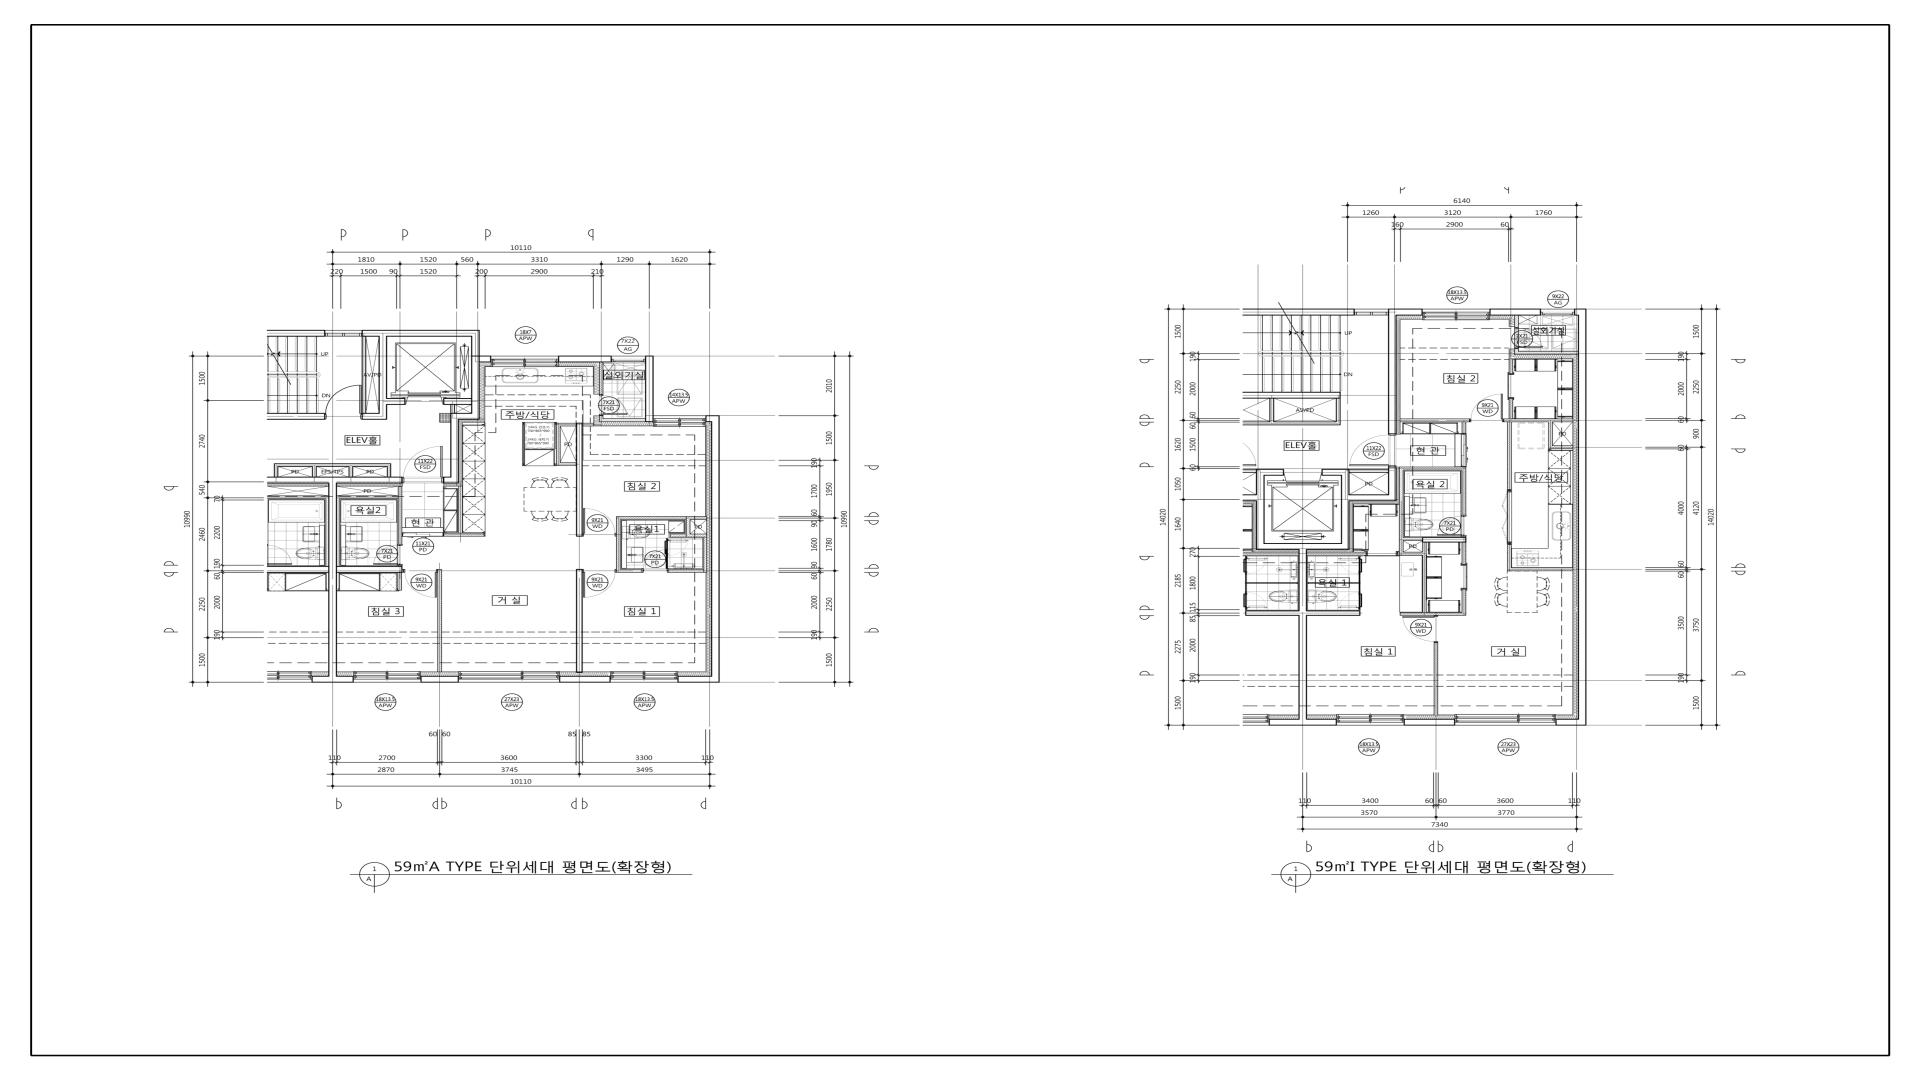door: (1349, 434, 1396, 467), (403, 445, 443, 483), (325, 385, 362, 420), (401, 569, 438, 597), (582, 508, 616, 537), (1469, 394, 1503, 422), (582, 569, 616, 597), (1402, 616, 1438, 642), (373, 544, 403, 566), (1437, 515, 1466, 537), (642, 549, 668, 573), (1514, 327, 1543, 348), (1501, 489, 1512, 544), (1338, 592, 1362, 610), (1338, 556, 1362, 574), (1461, 433, 1466, 467), (1365, 551, 1399, 556), (1461, 563, 1467, 591), (1508, 372, 1514, 400), (402, 533, 443, 537)
wall: (1574, 309, 1587, 726), (706, 415, 720, 676), (328, 484, 337, 676), (1298, 550, 1307, 719), (266, 477, 402, 484), (1388, 316, 1396, 434), (1243, 308, 1355, 316), (576, 423, 583, 537), (361, 330, 471, 337), (471, 330, 480, 413), (576, 569, 583, 673), (1243, 392, 1341, 399), (1256, 476, 1265, 550), (379, 336, 387, 413), (1341, 476, 1349, 550), (1264, 543, 1341, 550), (645, 356, 653, 422), (450, 419, 459, 477), (437, 569, 442, 672), (1269, 719, 1336, 726), (337, 566, 402, 573), (1399, 467, 1404, 552), (267, 413, 326, 420), (267, 330, 325, 337), (1243, 421, 1341, 425), (559, 676, 611, 683), (1404, 719, 1455, 726), (1490, 309, 1541, 316), (274, 464, 391, 467), (620, 516, 706, 520), (1507, 422, 1512, 489), (1349, 494, 1396, 501), (558, 356, 612, 362), (362, 336, 366, 413), (678, 676, 720, 683), (1434, 642, 1438, 715), (1422, 543, 1426, 612), (599, 416, 645, 422), (421, 676, 459, 683), (1307, 611, 1360, 616), (1400, 612, 1466, 616), (1422, 537, 1466, 543), (1507, 567, 1573, 571), (1388, 309, 1422, 316), (1519, 351, 1578, 355), (458, 486, 463, 533), (398, 486, 402, 544), (340, 495, 398, 499), (1388, 467, 1396, 495), (616, 516, 620, 569), (1503, 419, 1573, 422), (337, 496, 340, 566), (1400, 419, 1469, 422), (443, 398, 471, 405), (1256, 469, 1284, 476), (1403, 467, 1466, 470), (1322, 469, 1349, 476), (328, 676, 354, 683), (1462, 470, 1466, 515), (362, 413, 387, 420), (1307, 552, 1365, 555), (451, 413, 480, 419), (556, 426, 560, 466), (1349, 469, 1388, 473), (668, 569, 707, 573), (1556, 719, 1578, 726), (1548, 422, 1553, 449), (599, 362, 603, 395), (703, 537, 707, 569), (387, 398, 405, 405), (444, 533, 484, 536), (1336, 398, 1341, 421), (1507, 544, 1512, 567), (670, 534, 707, 537), (1269, 399, 1274, 421), (1308, 582, 1358, 584), (616, 569, 641, 573), (443, 477, 459, 483), (1399, 552, 1422, 556), (397, 573, 402, 590), (1462, 591, 1466, 612), (1462, 543, 1466, 563), (1553, 445, 1573, 449), (1509, 400, 1513, 419), (1404, 537, 1422, 541), (480, 356, 491, 362), (560, 462, 576, 466), (686, 519, 690, 534), (556, 423, 576, 426), (1242, 469, 1256, 473), (1514, 316, 1519, 327), (1358, 574, 1361, 592), (1509, 359, 1513, 372), (312, 467, 317, 477), (348, 467, 353, 477), (1462, 422, 1466, 433), (450, 405, 455, 413), (274, 467, 278, 477), (387, 467, 391, 477), (1514, 348, 1519, 355), (583, 423, 594, 426)
window: (1455, 714, 1556, 725), (458, 671, 559, 682), (610, 671, 678, 683), (1422, 309, 1490, 320), (1336, 714, 1404, 725), (353, 671, 420, 682), (491, 356, 558, 367), (653, 416, 706, 427), (325, 330, 361, 336), (1541, 309, 1574, 315), (1355, 309, 1388, 315), (612, 356, 645, 362)
